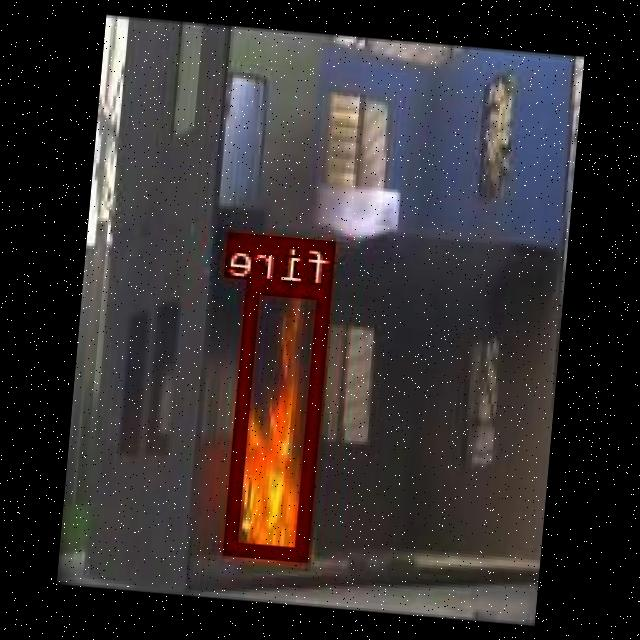fire: (226, 279, 334, 560)
